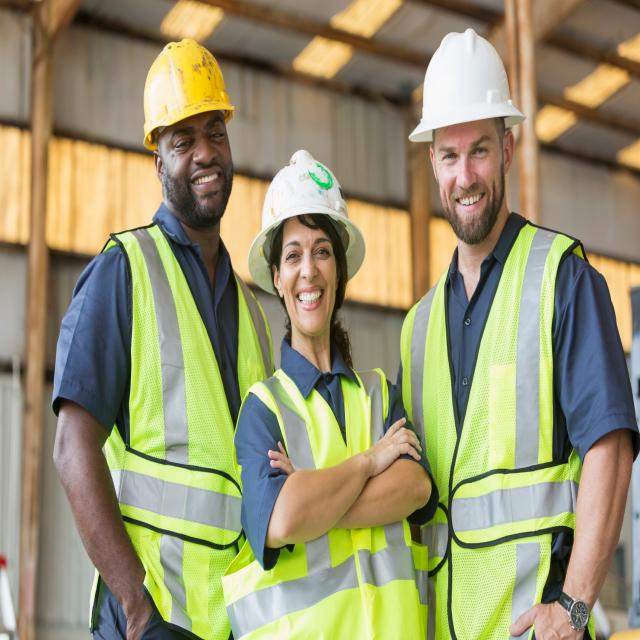Reflective-Jacket: (400, 224, 587, 636), (98, 215, 274, 638), (226, 355, 419, 640)
Safety-Helmet: (249, 143, 368, 283), (408, 26, 528, 150), (138, 36, 236, 144)
